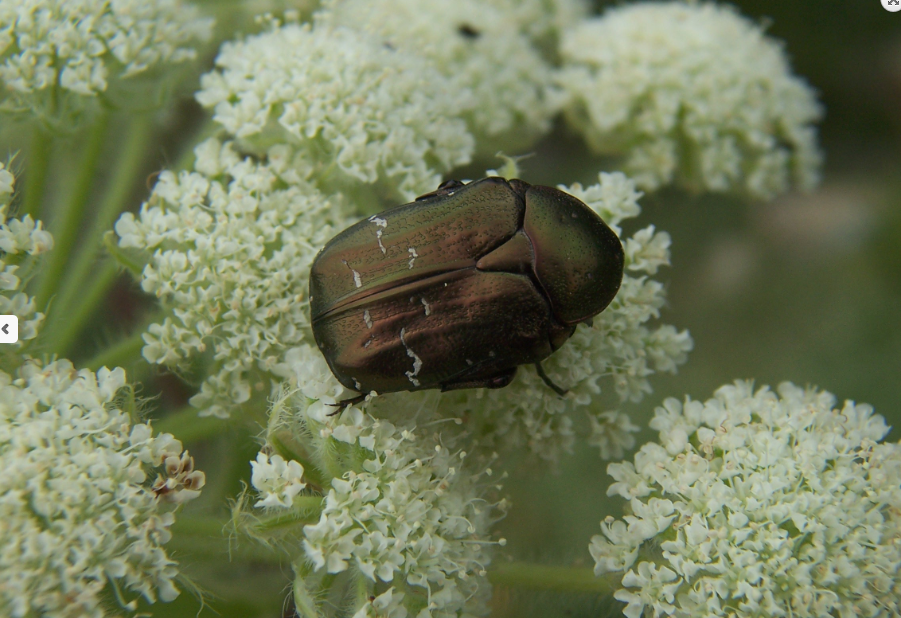Protaetia_fieberi: (299, 171, 628, 418)
